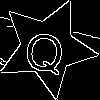Q: (22, 23, 68, 76)
